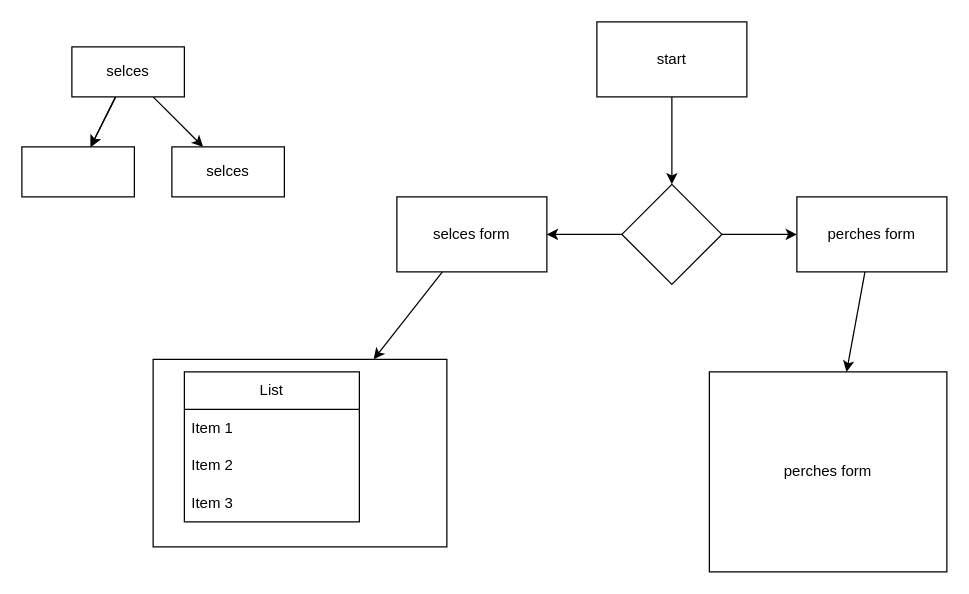
Image size: 969x594. Some labels were removed from this diagram. Here are the shapes that lost their labels. From the top down, the centre of each, then its label:
At (x=77, y=171): "vendorname".
At (x=671, y=233): "if selse else perches".
